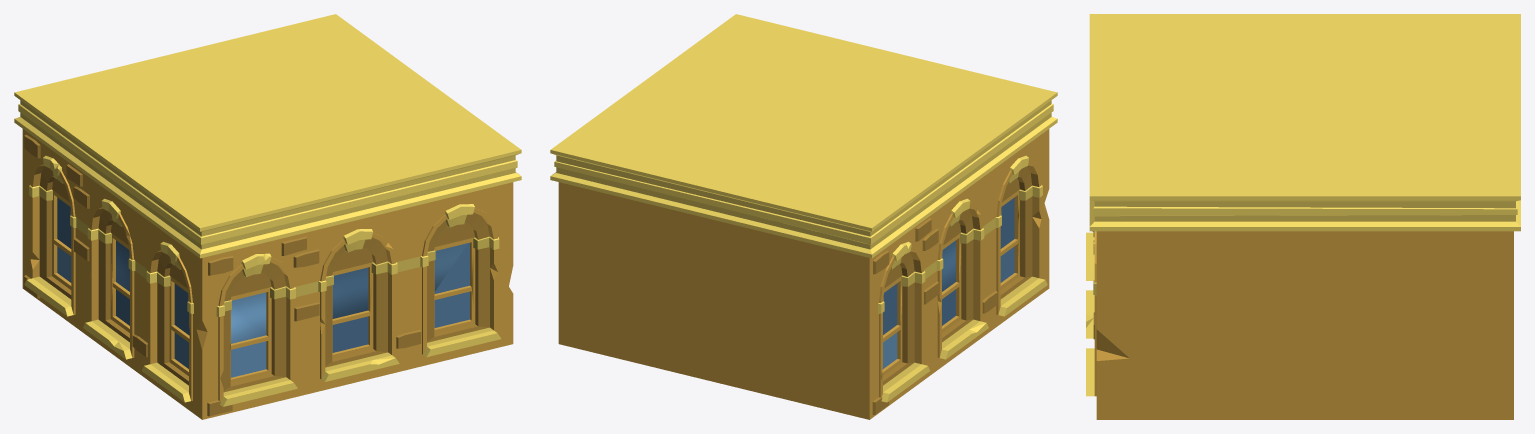
File: Mod_Edificio_5.fbx
3 renders of one model, left to right at view 1: azimuth 30°, elevation 25°; view 2: azimuth 150°, elevation 25°; view 3: azimuth 270°, elevation 25°, orthographic. The views are drawn at different scales.
Parts seen in each view (by area): view 1: Edificio_5; view 2: Edificio_5; view 3: Edificio_5.
Part boxes in pixels (left/top/right/bottom): Edificio_5: left=14, top=14, right=521, bottom=419; Edificio_5: left=550, top=14, right=1057, bottom=419; Edificio_5: left=1086, top=14, right=1520, bottom=419.
Size of the model in its own units: 5.21 by 3 by 5.21.
